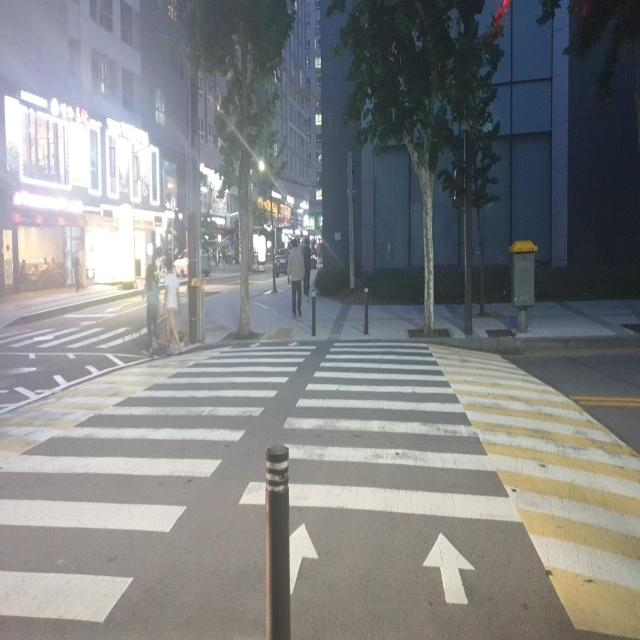횡단보도: (0, 334, 523, 629)
